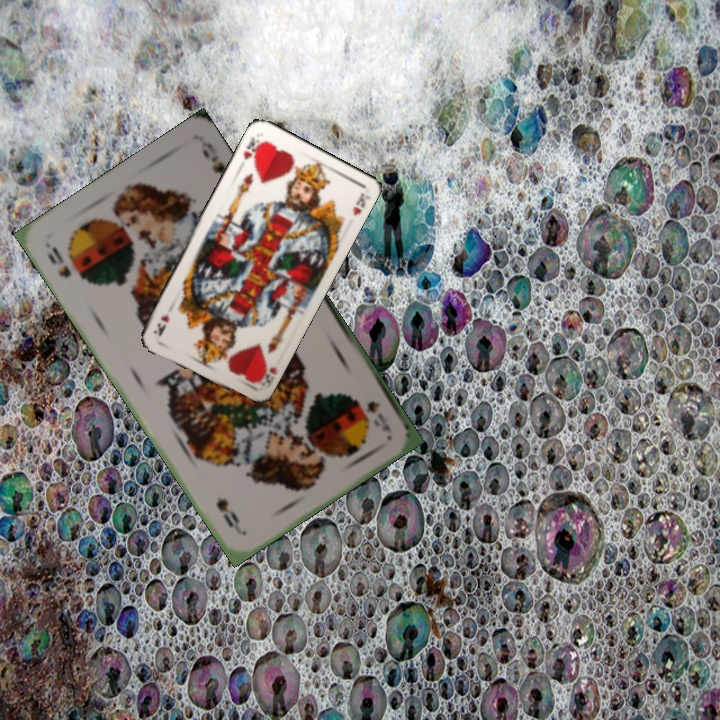HK: (251, 359, 280, 390), (239, 133, 265, 162)
SO: (42, 240, 74, 281), (361, 397, 394, 434)
